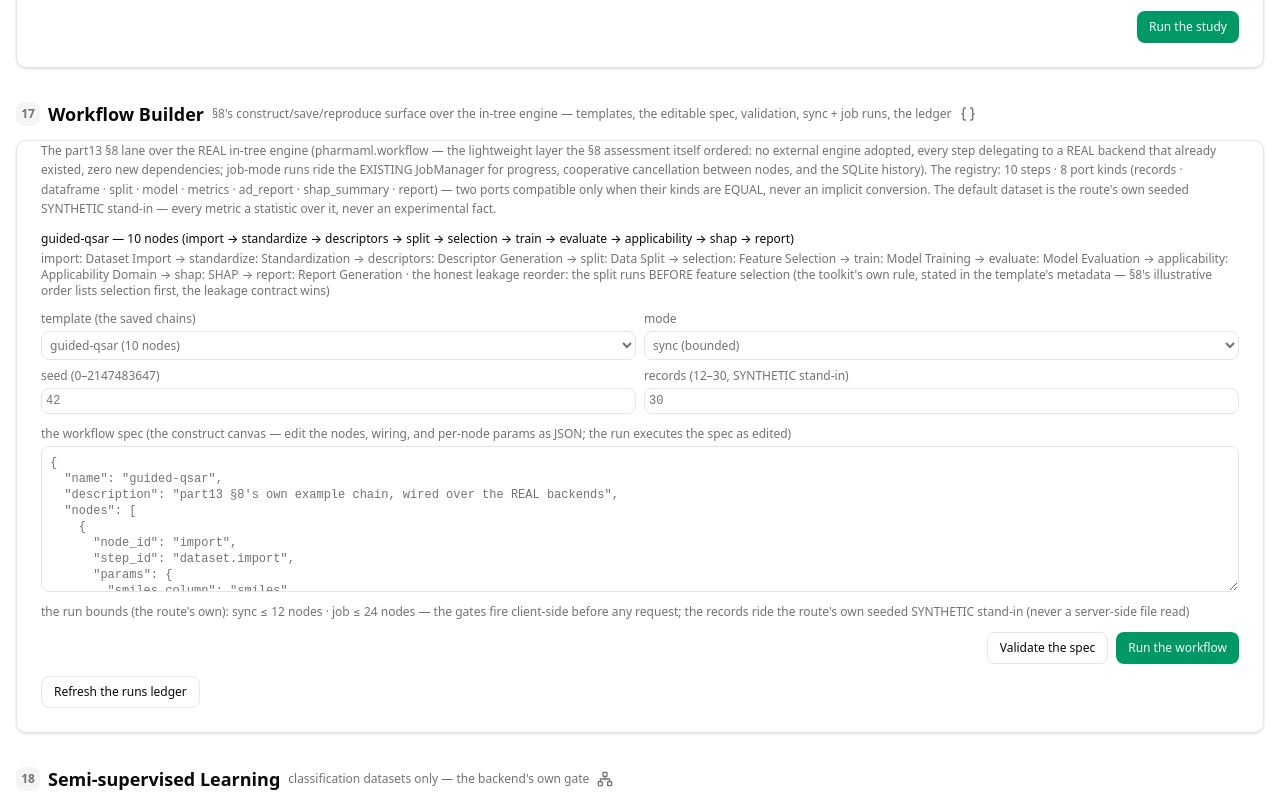
Scenario: the §8 Workflow Builder lane of the Machine Learning workspace › gates a negative seed client-side — the request never leaves the page
(page scrolled)
Replace the text in the number field named "workflow seed" with "-1" at (338, 401), box [41,388,636,414]
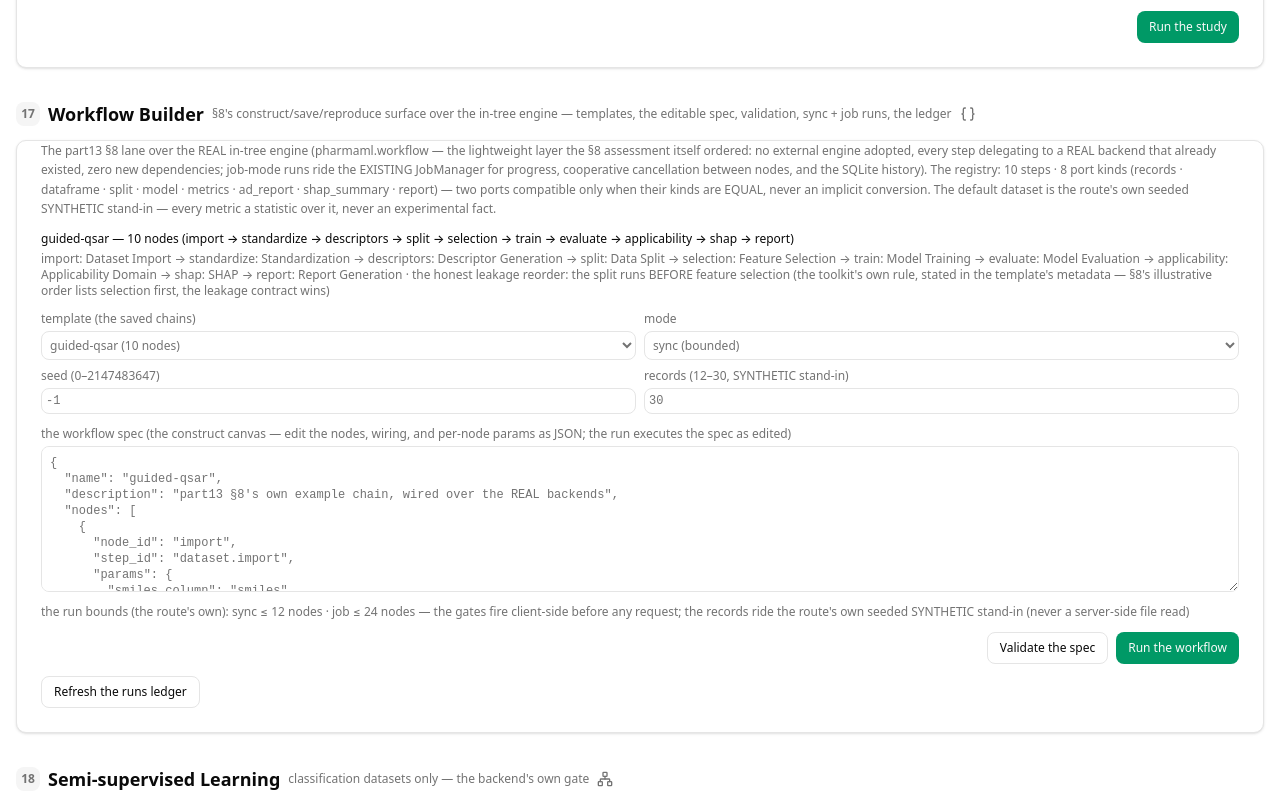
Click the button "Run the workflow" at (1178, 648), box [1116,632,1239,664]
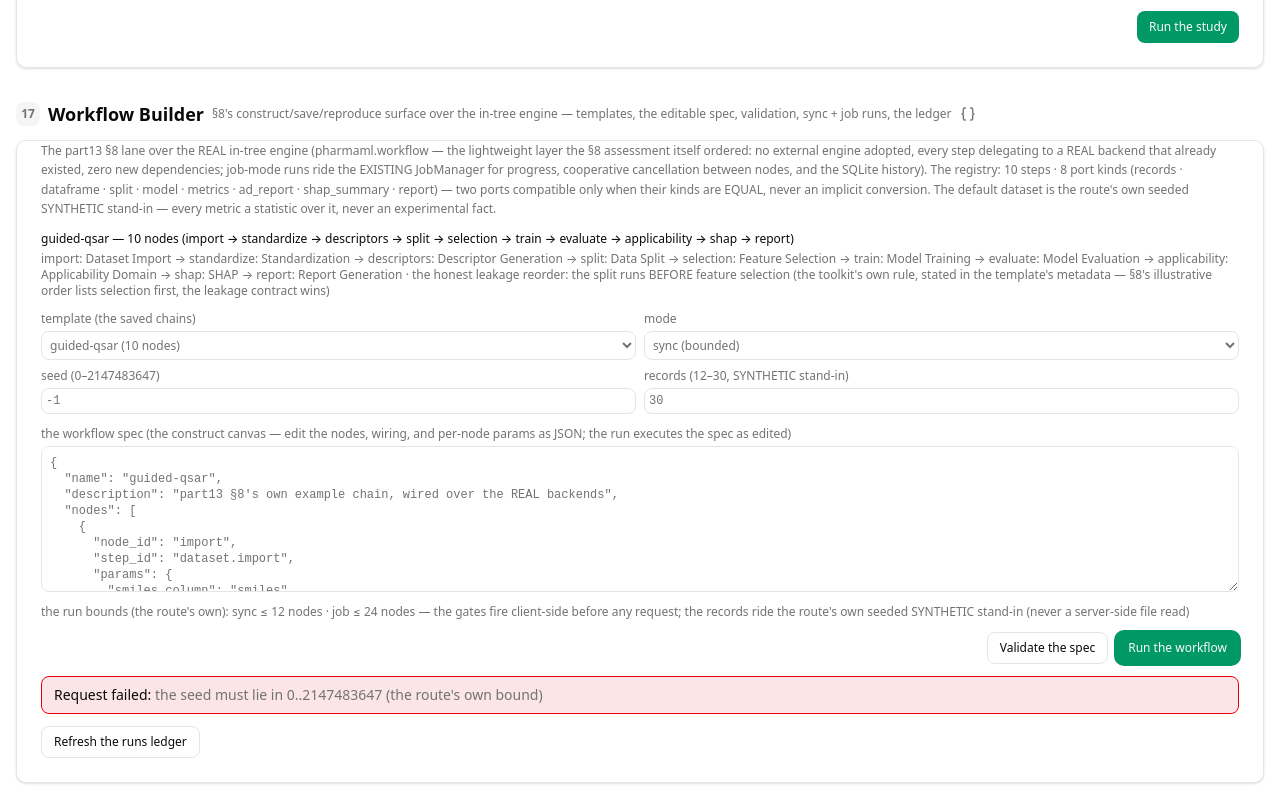
Now the text "the seed must lie in 0..2147483647 (the route's own bound)" is shown, box [155,685,543,704]
